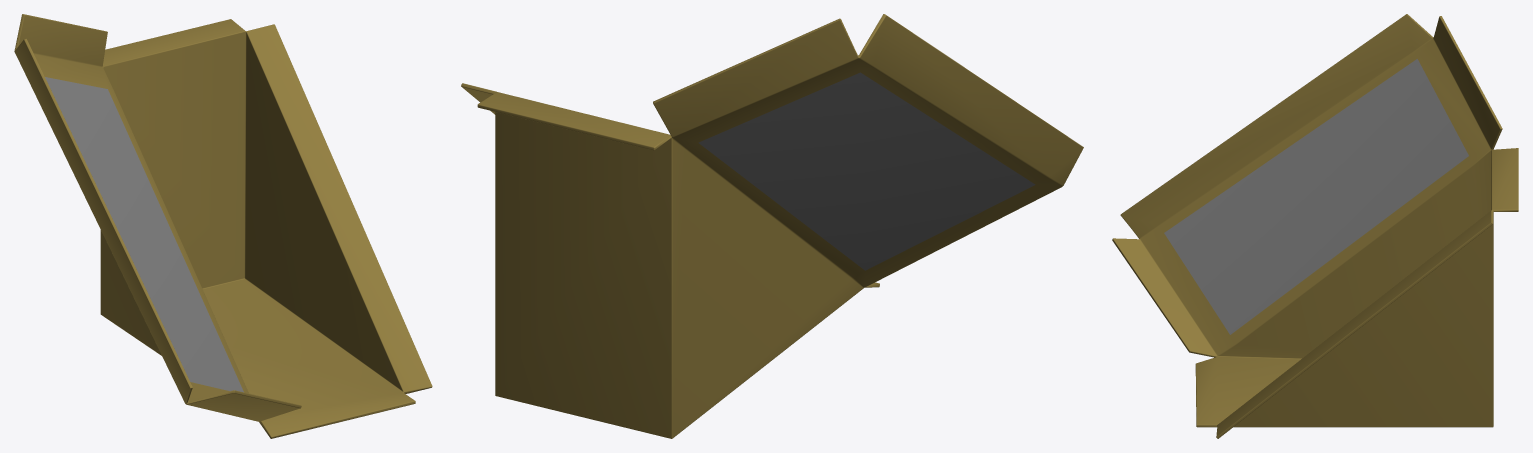
Rendered from Sandwich box.fbx.
3 views of the same model, side by side, from view 1: azimuth 30°, elevation 25°; view 2: azimuth 150°, elevation 25°; view 3: azimuth 270°, elevation 25° (orthographic). The views are drawn at different scales.
Parts seen in each view (by area): view 1: Plane001; view 2: Plane001; view 3: Plane001.
Part boxes in pixels (x1,y1,x2,y2): Plane001: [14, 14, 432, 438]; Plane001: [461, 14, 1083, 438]; Plane001: [1112, 14, 1518, 438].
Size of the model in its own units: 89.3 by 99.36 by 120.
